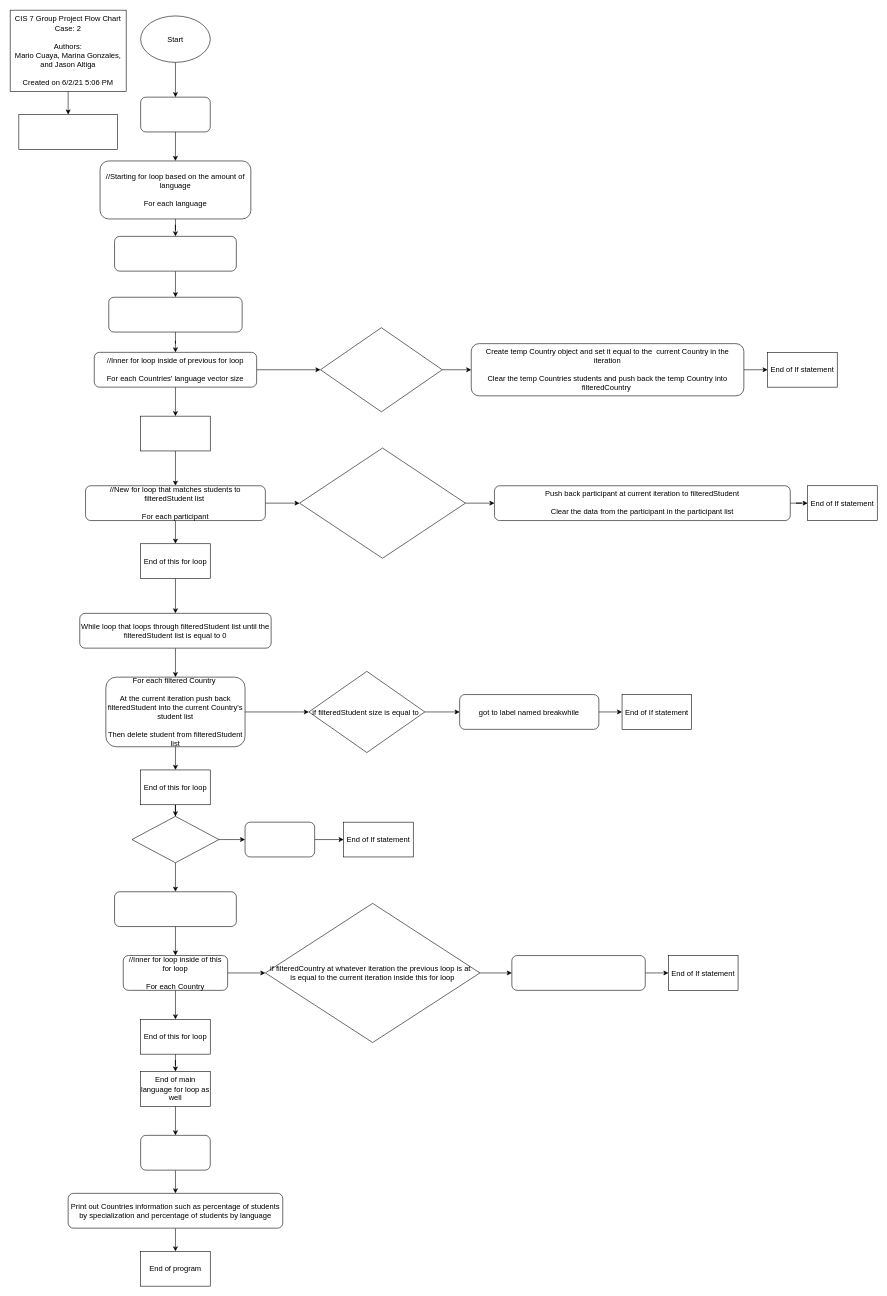
Image size: 887x1296. Some labels were removed from this diagram. Here are the shapes that lost their labels. From the top down, the box of each, then its label:
(18, 114, 117, 149): Note: "//" mean comments to explain what something does
(140, 97, 210, 132): Generate list of participants
(114, 236, 236, 271): clear filteredCountry vector clear filteredStudent vector
(108, 297, 242, 332): //Next stage in the for loop is an inner for loop For each Country
(320, 327, 442, 412): if Countries language is equal to a language
(140, 416, 210, 451): End of both for loops
(299, 447, 465, 558): if student matches filtered language then add the student to filteredStudent
(131, 816, 219, 863): if labled was called
(244, 822, 315, 857): break the while loop
(114, 891, 236, 927): For each filteredCountry
(511, 955, 645, 990): Then dump the contents of the filteredCountry's student into Countries
(140, 1135, 210, 1170): For each Country
